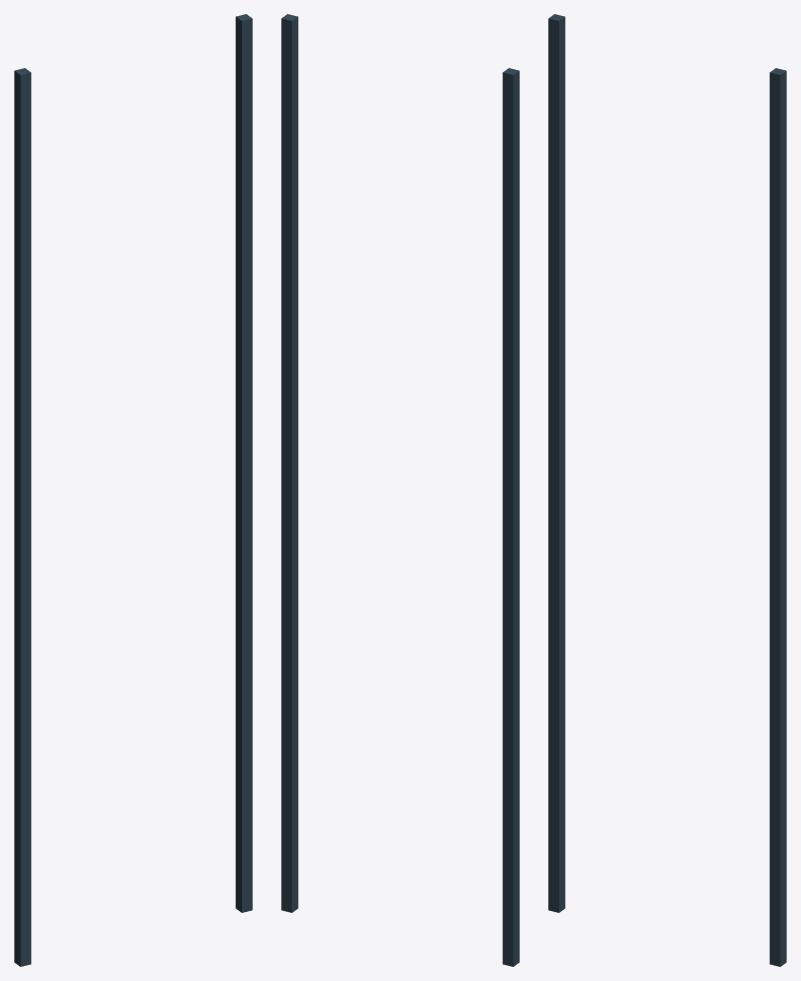
The model's file is v02-transit-world-02-01-01.glb.
The picture shows the model from 3 angles, left to right: view 1: azimuth 30°, elevation 25°; view 2: azimuth 150°, elevation 25°; view 3: azimuth 330°, elevation 25°; orthographic projection.
Visible parts, largest first — view 1: v02-transit-world-02-01-01; view 2: v02-transit-world-02-01-01; view 3: v02-transit-world-02-01-01.
Boxes of the visible parts, x1,y1,x2,y2 form: v02-transit-world-02-01-01: (14,14,252,966); v02-transit-world-02-01-01: (281,14,519,966); v02-transit-world-02-01-01: (548,14,786,966).
Bounding box in the file's own units: 26.2 × 96.25 × 1.2.
